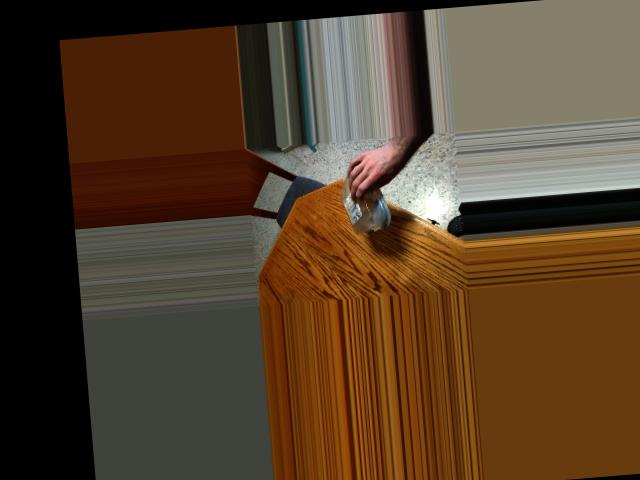cheese: (340, 158, 391, 215)
